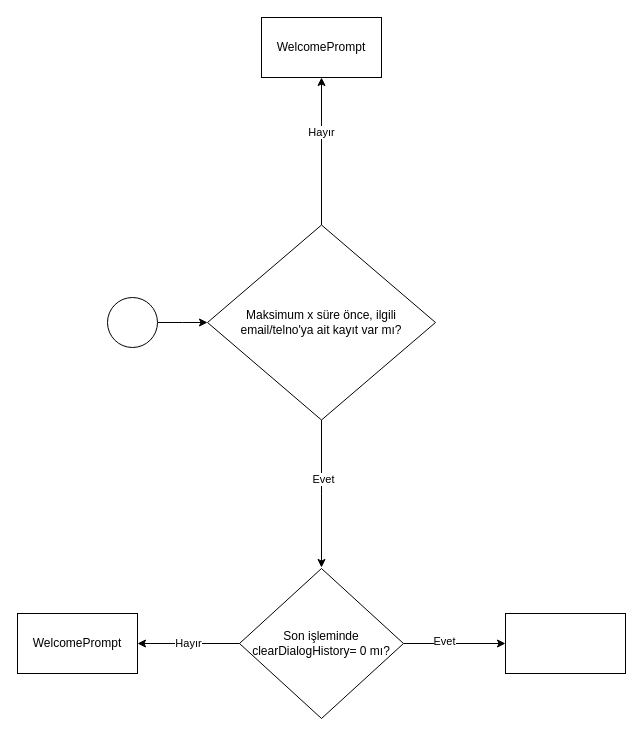
Image size: 643x736. Some labels were removed from this diagram. The shapes that lost their labels are listed below. From the top down, each one's centre as x and y in pixels, then its label:
At (132,322): "Start".
At (565,643): "Entity kontrol".
